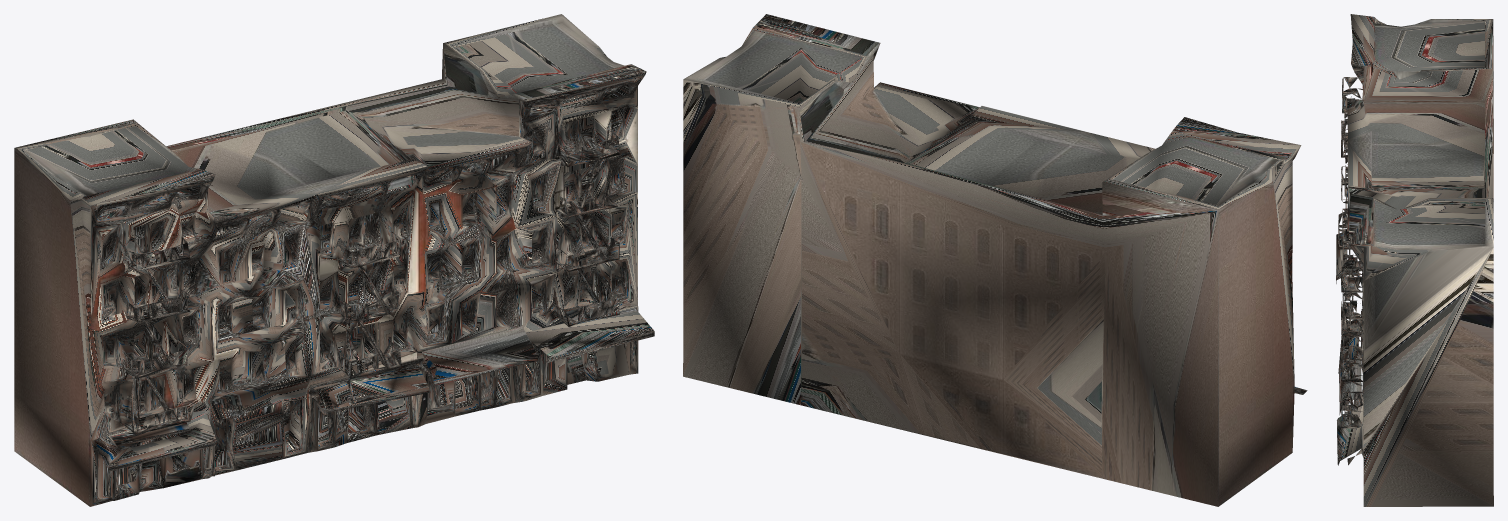
Rendered from row_five_d_hq_lod.glb.
3 views of the same model, side by side, from view 1: azimuth 30°, elevation 25°; view 2: azimuth 150°, elevation 25°; view 3: azimuth 270°, elevation 25° (orthographic). The views are drawn at different scales.
Size of the model in its own units: 31.61 by 16.99 by 9.19.
Materials: 1 (1 with a texture image).
